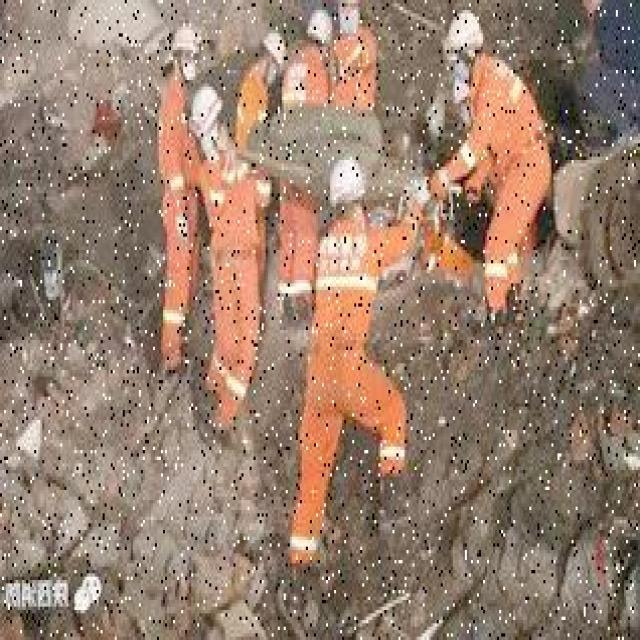fall: (249, 100, 436, 170)
